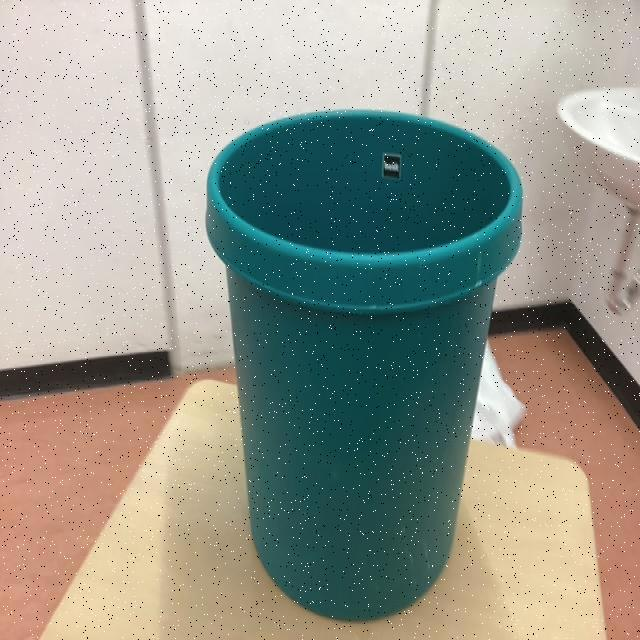garbage container: (187, 83, 531, 620)
